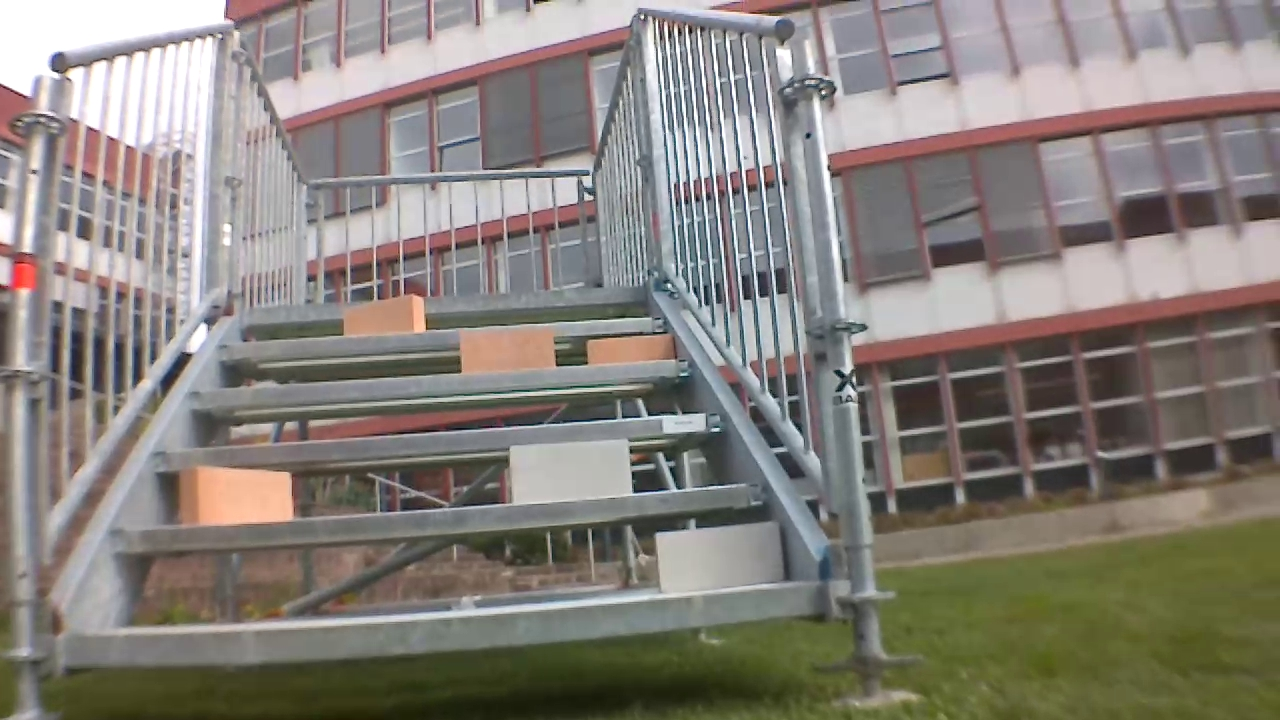brick: (656, 522, 784, 591), (510, 439, 630, 504), (179, 465, 291, 525), (459, 328, 555, 372), (343, 295, 425, 334), (587, 335, 672, 364)
edge: (60, 586, 820, 664), (115, 485, 766, 550), (155, 414, 721, 472), (192, 361, 690, 407), (219, 316, 668, 357), (248, 287, 643, 324)
stairs: (4, 22, 923, 703)
steps: (56, 284, 823, 668)
